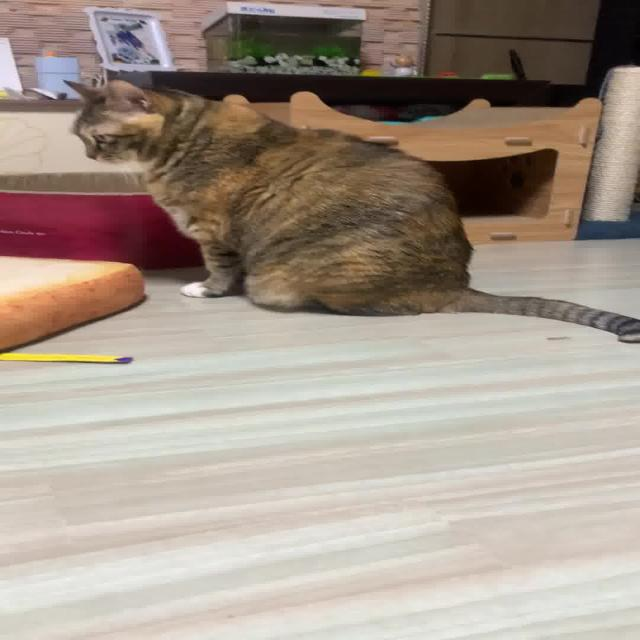cat: (52, 68, 640, 346)
